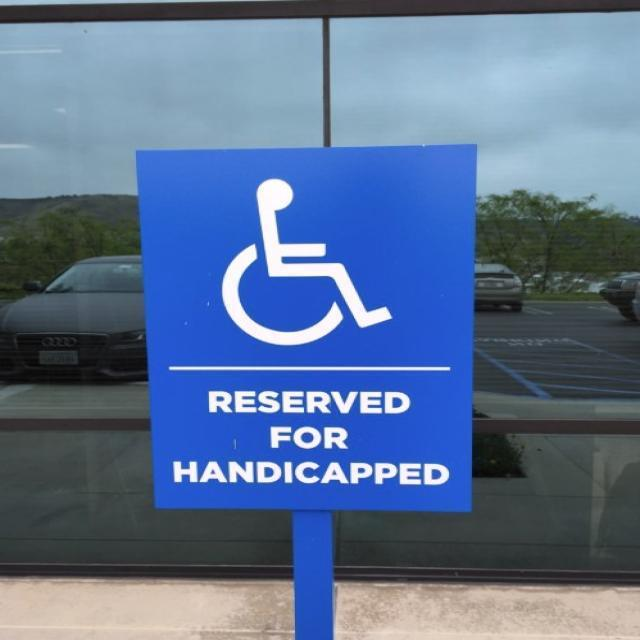symbol_of_access: (131, 141, 477, 517)
